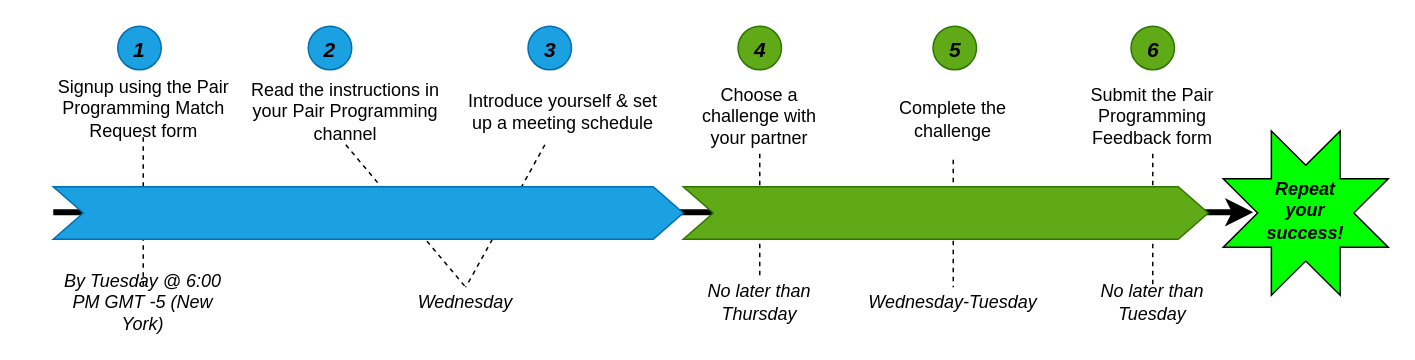
Some shapes in this 1415 by 360 pixel diagram are drawn without their labels. The box of each missing label's shape, as (x1, y1, x2, y2) in pixels:
Get Ready!: (52, 185, 683, 239)
Weekly Pair Programming: (682, 185, 1208, 239)
